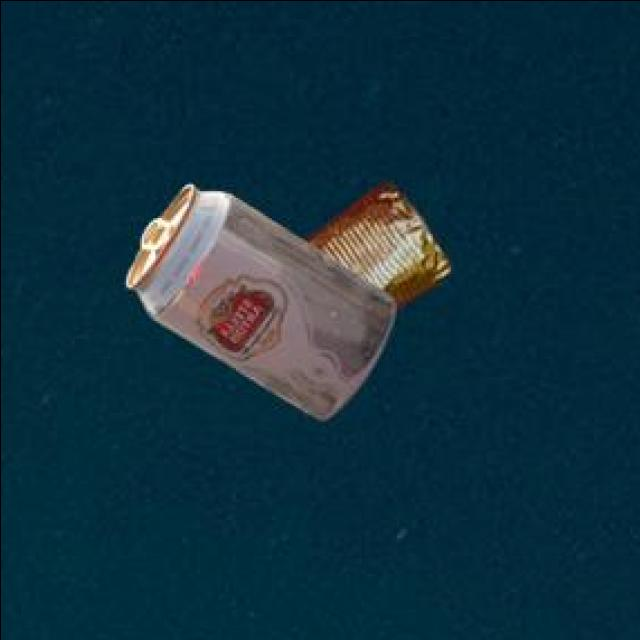logam: (122, 187, 393, 422), (301, 187, 444, 312)
